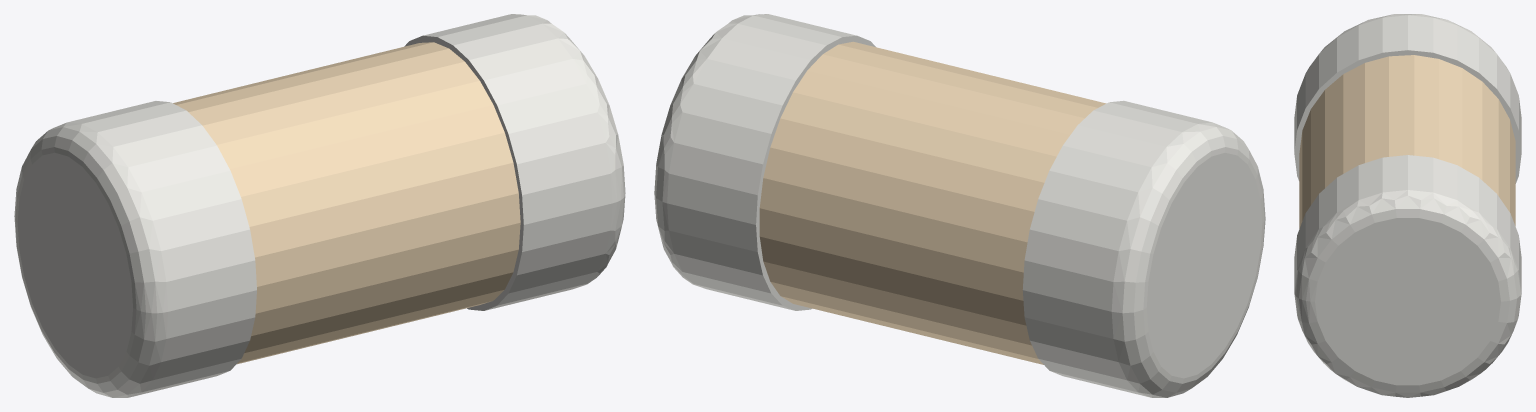
The model's file is R_MicroMELF_MMU-0102.glb.
The picture shows the model from 3 angles, left to right: view 1: azimuth 30°, elevation 25°; view 2: azimuth 150°, elevation 25°; view 3: azimuth 270°, elevation 25°; orthographic projection. The views are drawn at different scales.
Parts seen in each view (by area): view 1: Shape_IndexedFaceSet.004, Shape_IndexedFaceSet.002, Shape_IndexedFaceSet.006, Shape_IndexedFaceSet.008, Shape_IndexedFaceSet.007, Shape_IndexedFaceSet.001, Shape_IndexedFaceSet.003; view 2: Shape_IndexedFaceSet.004, Shape_IndexedFaceSet.002, Shape_IndexedFaceSet.006, Shape_IndexedFaceSet.008, Shape_IndexedFaceSet.007, Shape_IndexedFaceSet.001, Shape_IndexedFaceSet.003; view 3: Shape_IndexedFaceSet, Shape_IndexedFaceSet.004, Shape_IndexedFaceSet.001, Shape_IndexedFaceSet.006, Shape_IndexedFaceSet.002, Shape_IndexedFaceSet.005, Shape_IndexedFaceSet.007.
Boxes of the visible parts, x1,y1,x2,y2 form: Shape_IndexedFaceSet.004: [173, 42, 520, 364]; Shape_IndexedFaceSet.002: [423, 14, 612, 310]; Shape_IndexedFaceSet.006: [67, 101, 256, 397]; Shape_IndexedFaceSet.008: [17, 152, 132, 378]; Shape_IndexedFaceSet.007: [14, 122, 167, 397]; Shape_IndexedFaceSet.001: [513, 14, 625, 288]; Shape_IndexedFaceSet.003: [404, 35, 523, 310]; Shape_IndexedFaceSet.004: [759, 41, 1106, 364]; Shape_IndexedFaceSet.002: [667, 14, 855, 310]; Shape_IndexedFaceSet.006: [1022, 100, 1212, 397]; Shape_IndexedFaceSet.008: [1146, 153, 1262, 378]; Shape_IndexedFaceSet.007: [1111, 122, 1265, 397]; Shape_IndexedFaceSet.001: [654, 14, 766, 288]; Shape_IndexedFaceSet.003: [756, 35, 875, 310]; Shape_IndexedFaceSet: [1315, 218, 1500, 385]; Shape_IndexedFaceSet.004: [1299, 55, 1515, 228]; Shape_IndexedFaceSet.001: [1294, 190, 1521, 397]; Shape_IndexedFaceSet.006: [1294, 15, 1521, 151]; Shape_IndexedFaceSet.002: [1294, 155, 1521, 290]; Shape_IndexedFaceSet.005: [1294, 50, 1521, 183]; Shape_IndexedFaceSet.007: [1306, 14, 1509, 72].
Size of the model in its own units: 0.8661 by 0.4331 by 0.4331.
